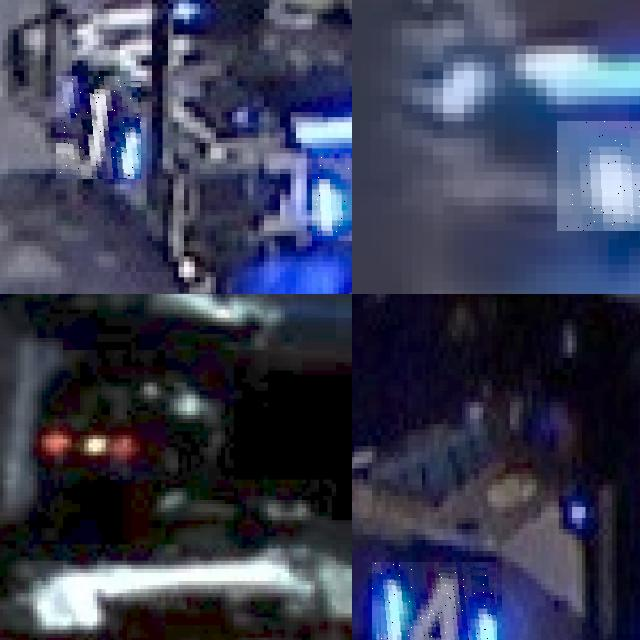B1: (56, 76, 141, 179), (311, 143, 352, 241)
B4: (372, 562, 496, 640)
B5: (556, 121, 640, 230)
